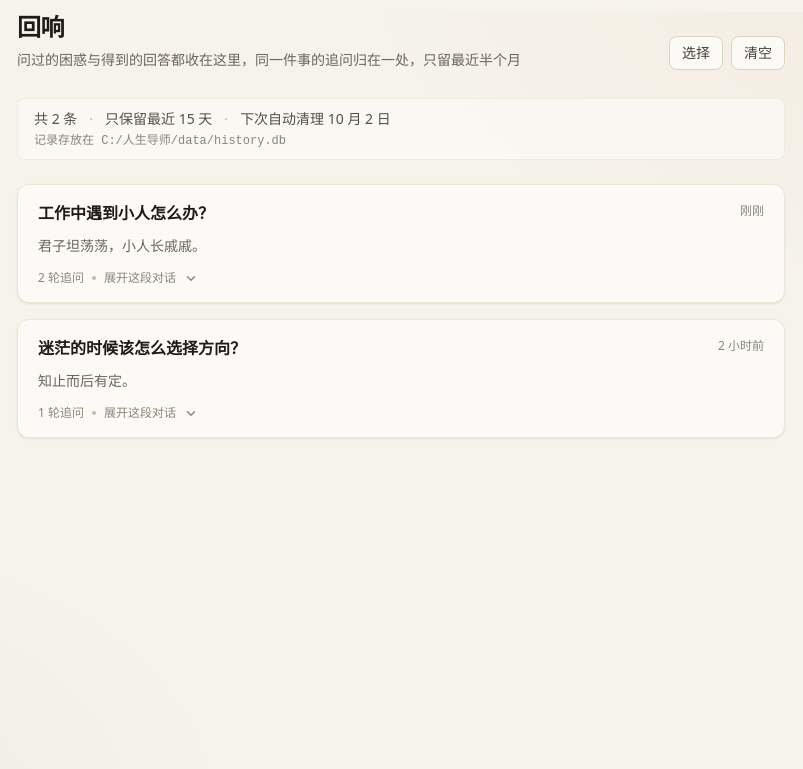
Test: 话题列表 › 展开后显示这段对话的问答与出处信息
The image size is (803, 769).
Click the button "工作中遇到小人怎么办？ 刚刚 君子坦荡荡，小人长戚戚。 2 轮追问 展开这段对话" at (126,214), box [18,185,784,302]
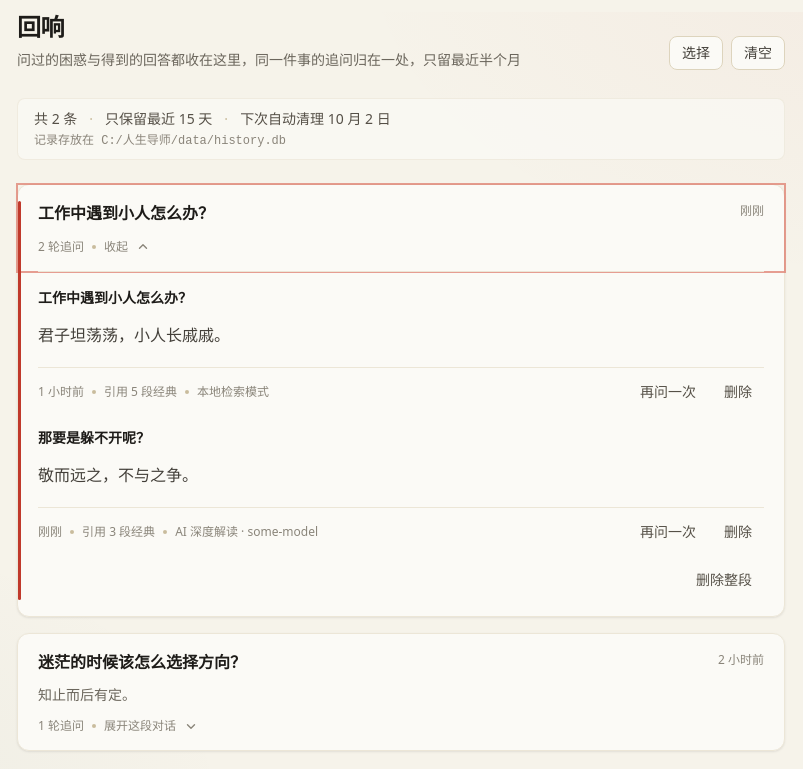
Expected: the text "引用 5 段经典" is shown, [104,383,177,400]
Expected: the text "本地检索模式" is shown, [197,383,269,400]
Expected: the text "AI 深度解读 · some-model" is shown, [175,522,318,540]
